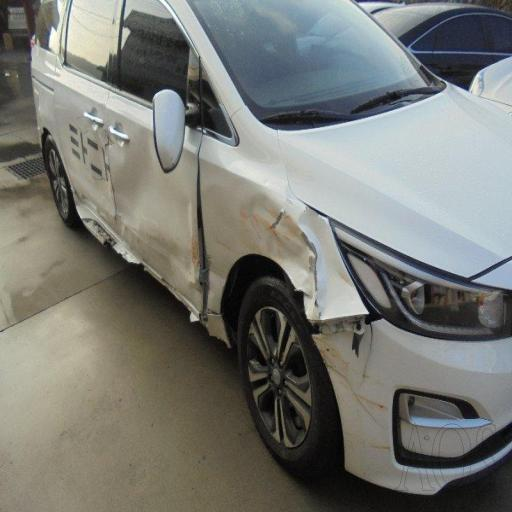broken: (303, 277, 406, 434)
dent: (66, 86, 223, 336), (243, 167, 329, 304)
